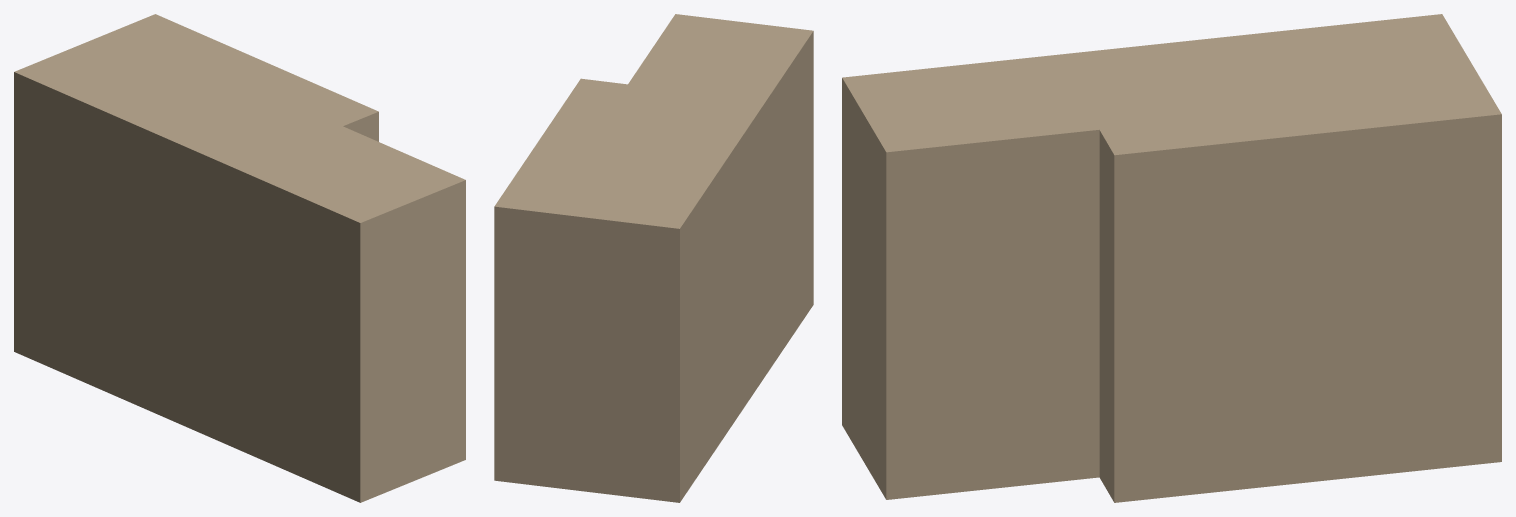
Rendered from bld_107625337.dae.
3 renders of one model, left to right at view 1: azimuth 30°, elevation 25°; view 2: azimuth 150°, elevation 25°; view 3: azimuth 270°, elevation 25°, orthographic. The views are drawn at different scales.
Parts seen in each view (by area): view 1: bld_107625337; view 2: bld_107625337; view 3: bld_107625337.
Part boxes in pixels (x1=…): bld_107625337: x1=14, y1=14, x2=465, y2=502; bld_107625337: x1=494, y1=14, x2=813, y2=502; bld_107625337: x1=842, y1=14, x2=1501, y2=502.
Bounding box in the file's own units: 6.97 × 13.76 × 8.
